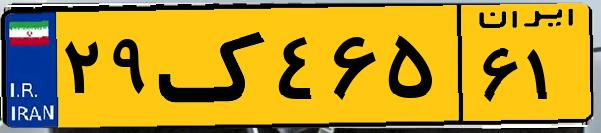1: (525, 38, 570, 115)
2: (57, 26, 110, 100)
4: (270, 28, 330, 110)
5: (385, 28, 445, 110)
6: (330, 28, 385, 110), (475, 38, 525, 113)
9: (110, 28, 158, 98)
ک: (158, 12, 270, 120)
